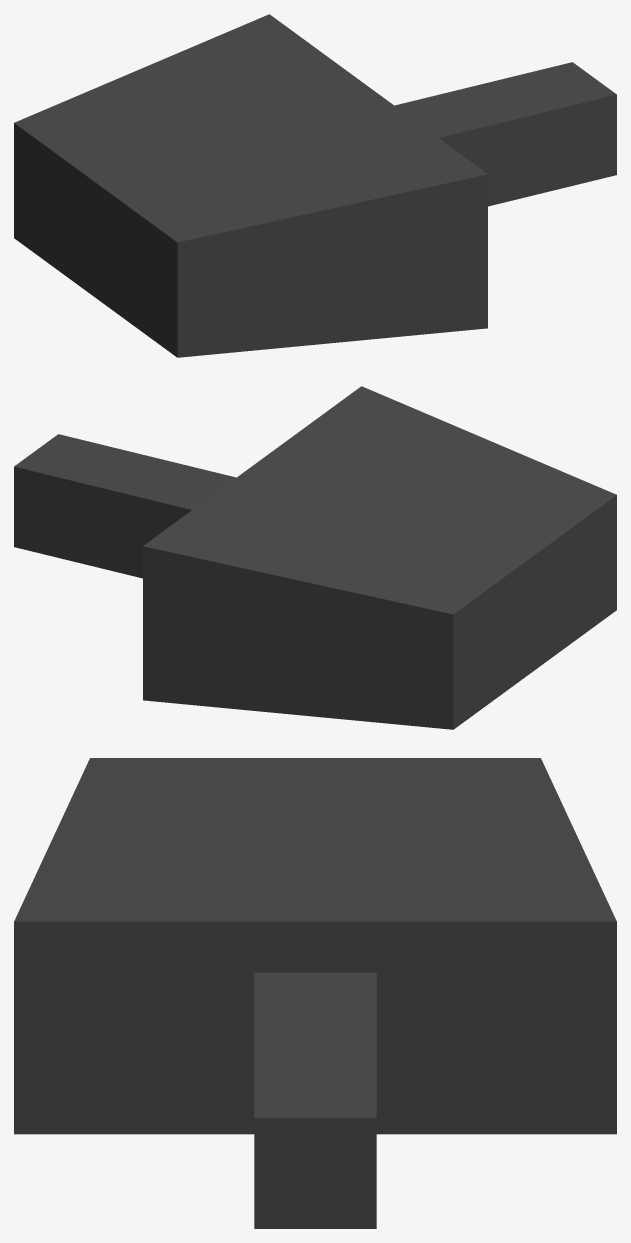
Rendered from Toaster_C1_02.fbx.
3 views of the same model, one above another, from view 1: azimuth 30°, elevation 25°; view 2: azimuth 150°, elevation 25°; view 3: azimuth 270°, elevation 25° (orthographic). The views are drawn at different scales.
Visible parts, largest first — view 1: Toaster_C1_02; view 2: Toaster_C1_02; view 3: Toaster_C1_02.
Part boxes in pixels (left/top/right/bottom): Toaster_C1_02: left=14, top=14, right=616, bottom=357; Toaster_C1_02: left=14, top=386, right=616, bottom=729; Toaster_C1_02: left=14, top=758, right=616, bottom=1228.
Size of the model in its own units: 4.56 by 1.35 by 3.46.
